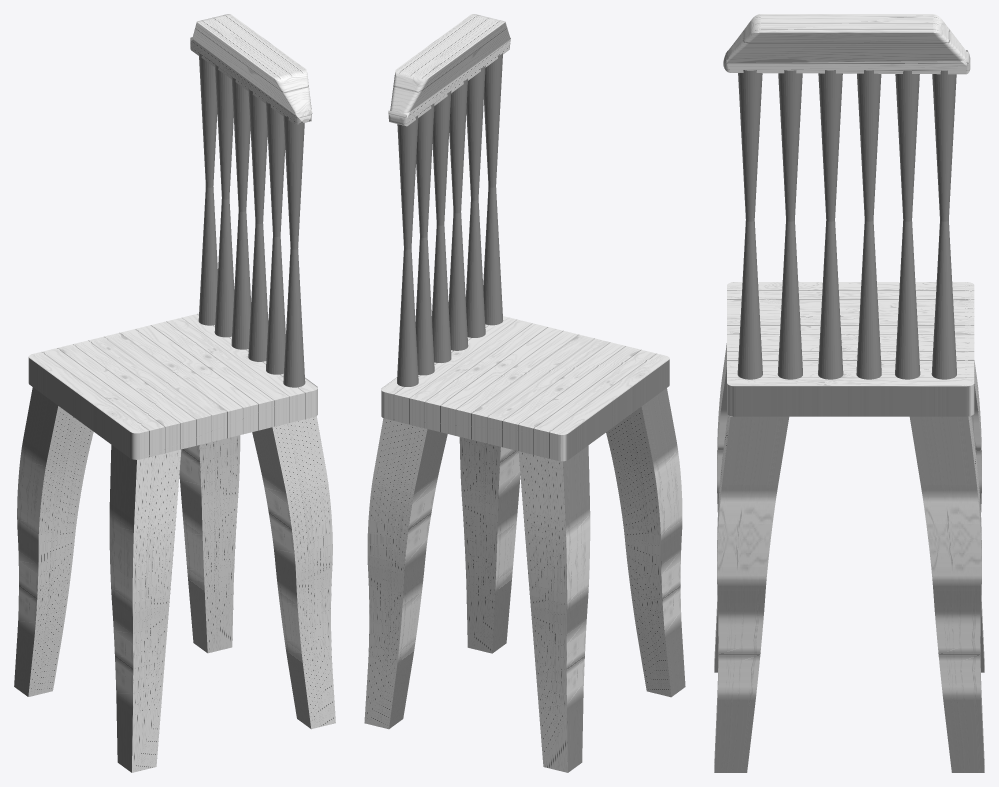
Rendered from silla1.obj.
The picture shows the model from 3 angles, left to right: view 1: azimuth 30°, elevation 25°; view 2: azimuth 150°, elevation 25°; view 3: azimuth 270°, elevation 25°; orthographic projection. The views are drawn at different scales.
Parts seen in each view (by area): view 1: Cubo.002_Cubo.003; view 2: Cubo.002_Cubo.003; view 3: Cubo.002_Cubo.003.
Boxes of the visible parts, x1=… form: Cubo.002_Cubo.003: x1=14, y1=14, x2=335, y2=772; Cubo.002_Cubo.003: x1=364, y1=14, x2=685, y2=772; Cubo.002_Cubo.003: x1=714, y1=14, x2=984, y2=772.
Bounding box in the file's own units: 9.1 × 27.33 × 9.1.
1 material, 1 textured.
